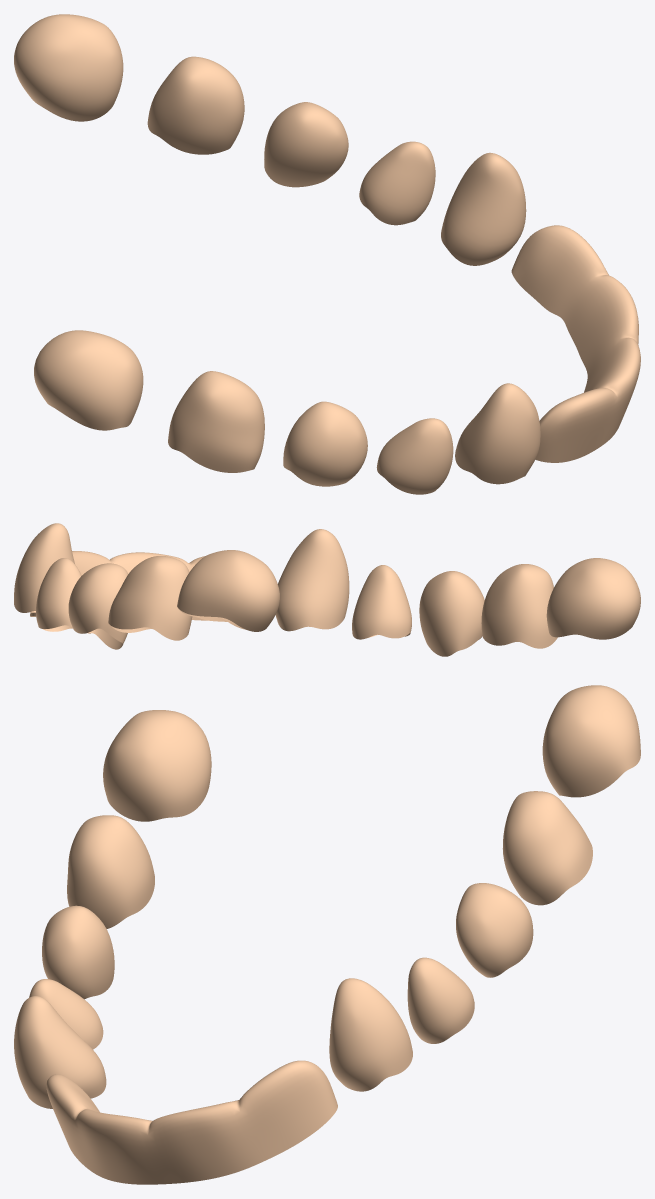
File: GEO_autumn_teeth_lower.obj
3 views of the same model, one above another, from view 1: azimuth 30°, elevation 25°; view 2: azimuth 150°, elevation 25°; view 3: azimuth 270°, elevation 25° (orthographic). The views are drawn at different scales.
Visible parts, largest first — view 1: GEO_autumn_teeth.lower; view 2: GEO_autumn_teeth.lower; view 3: GEO_autumn_teeth.lower.
Part boxes in pixels (<box>): GEO_autumn_teeth.lower: <box>14,14,640,494</box>; GEO_autumn_teeth.lower: <box>14,523,640,656</box>; GEO_autumn_teeth.lower: <box>14,685,640,1184</box>.
Size of the model in its own units: 0.0644 by 0.0325 by 0.0555.
